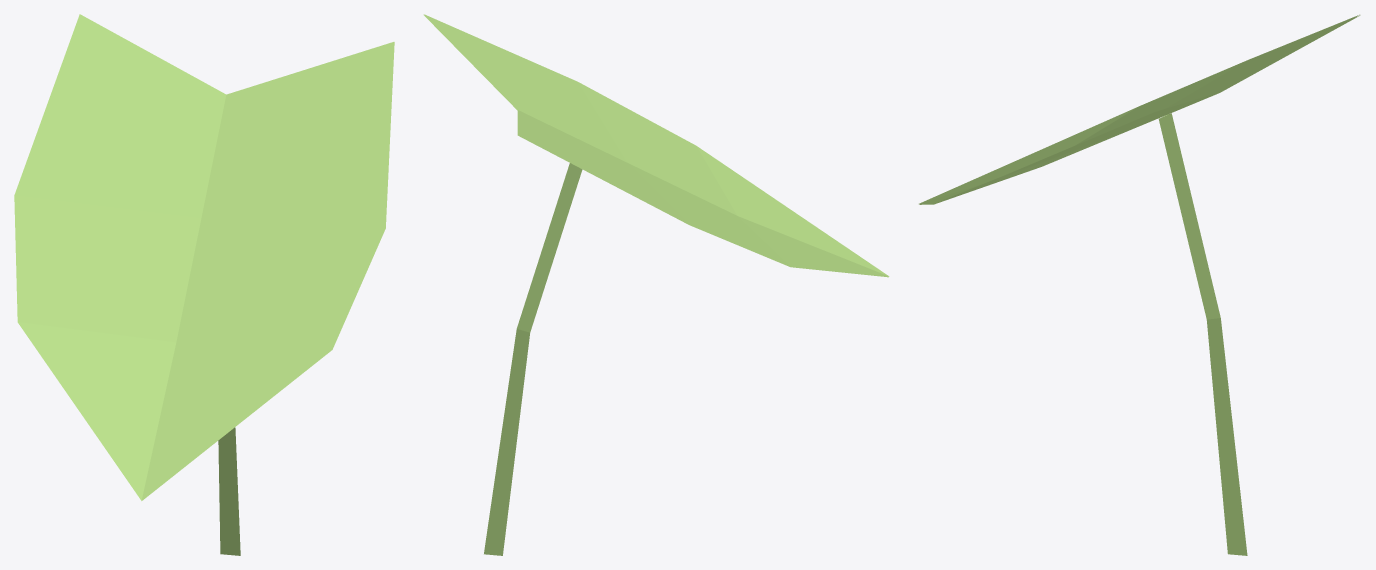
Rendered from Plant_c_TwoS_01.fbx.
The picture shows the model from 3 angles, left to right: view 1: azimuth 30°, elevation 25°; view 2: azimuth 150°, elevation 25°; view 3: azimuth 270°, elevation 25°; orthographic projection. The views are drawn at different scales.
Visible parts, largest first — view 1: Plant_c_TwoS_01; view 2: Plant_c_TwoS_01; view 3: Plant_c_TwoS_01.
Part boxes in pixels (<box>): Plant_c_TwoS_01: <box>14,14,394,555</box>; Plant_c_TwoS_01: <box>423,14,889,555</box>; Plant_c_TwoS_01: <box>919,14,1360,555</box>.
Size of the model in its own units: 0.4975 by 0.6351 by 0.5138.
